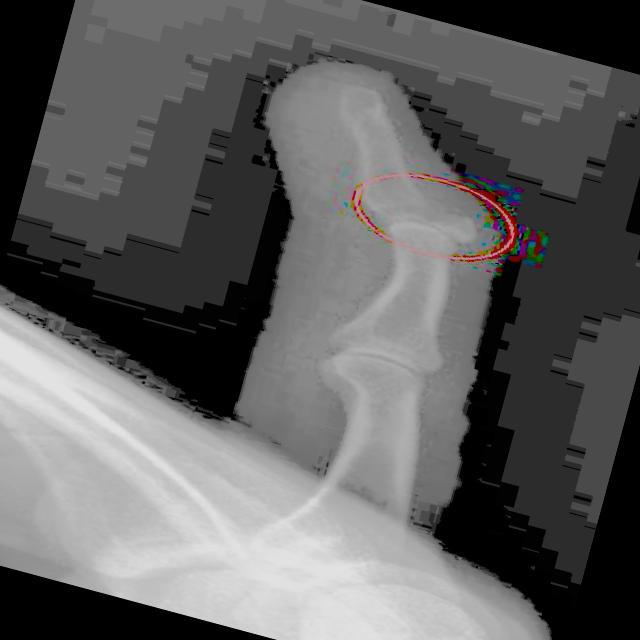Avlusion Fracture: (376, 189, 479, 263)
